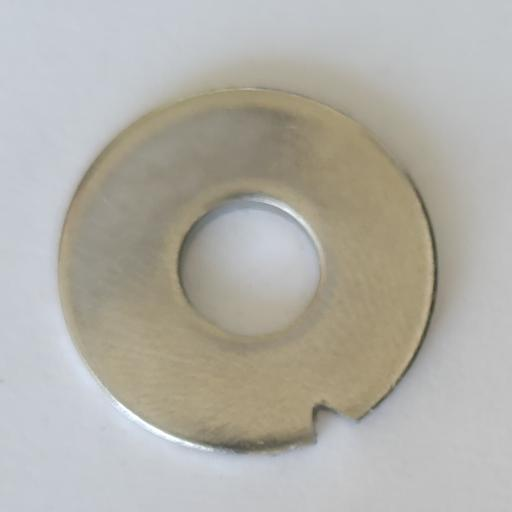burr: (310, 399, 360, 447)
